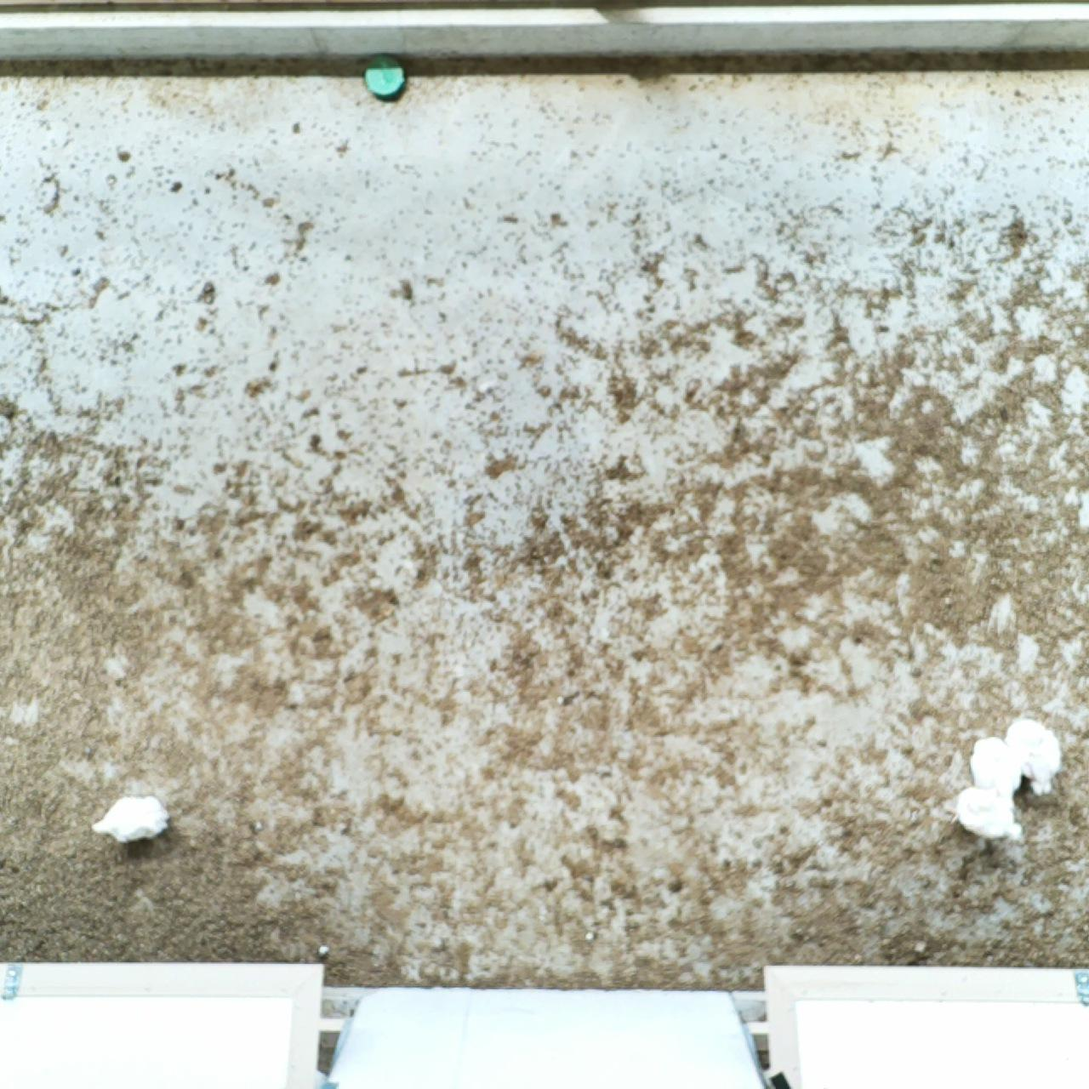chicken: (947, 783, 1026, 850), (1004, 715, 1063, 802), (90, 793, 174, 848), (966, 731, 1025, 794)
